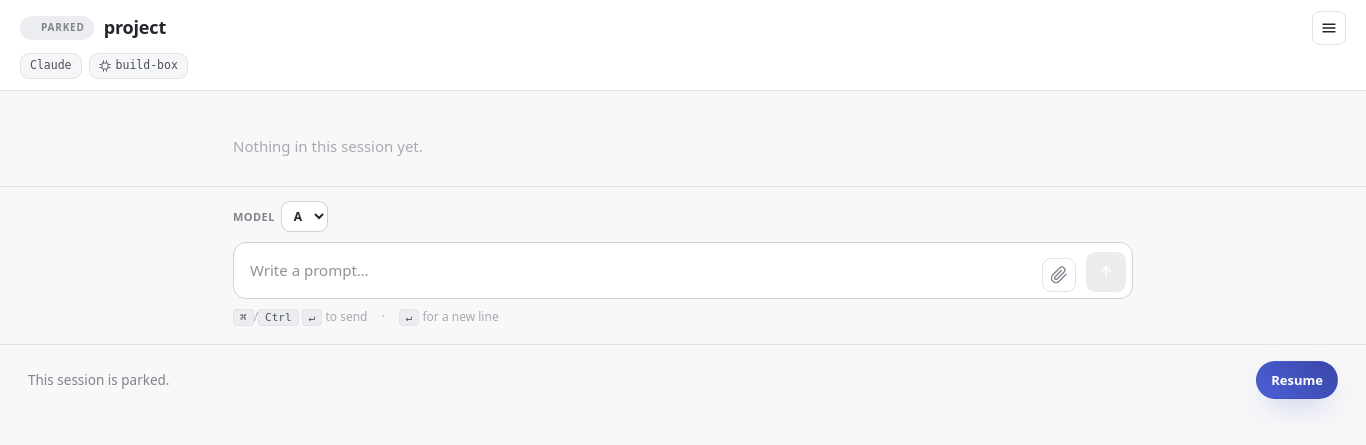
SessionView: a refused resume, in words › host_offline (409) is put in words
Expected: the element named "Host" reads "build-box", [116,58,178,72]
Click the button "Resume".
click(1297, 380)  # box [1256,361,1338,399]
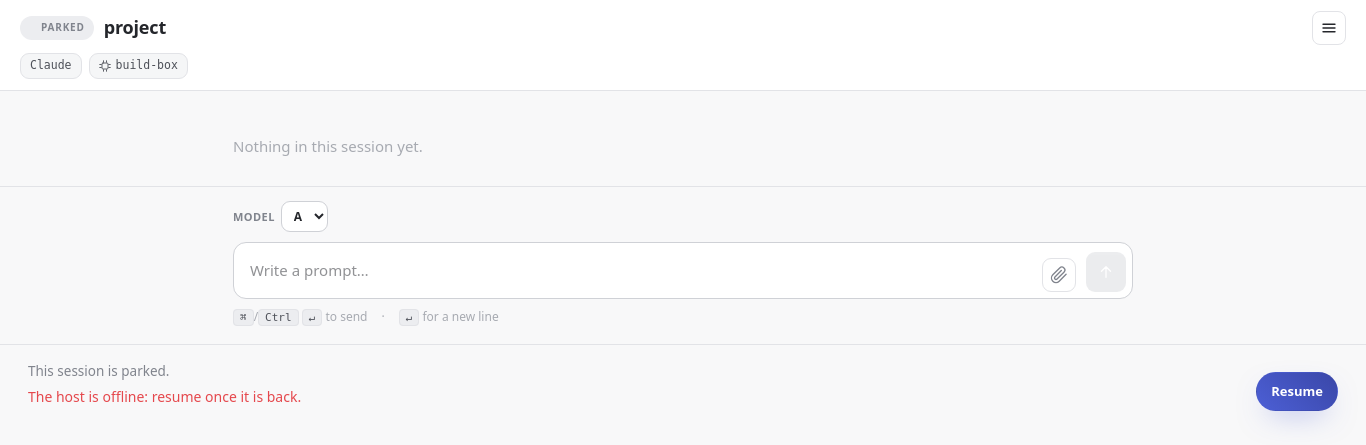
Expected: the button "Resume" is enabled, [1256,372,1338,410]
Expected: the text "The host is offline: resume once it is back." is shown, [28,387,301,406]
